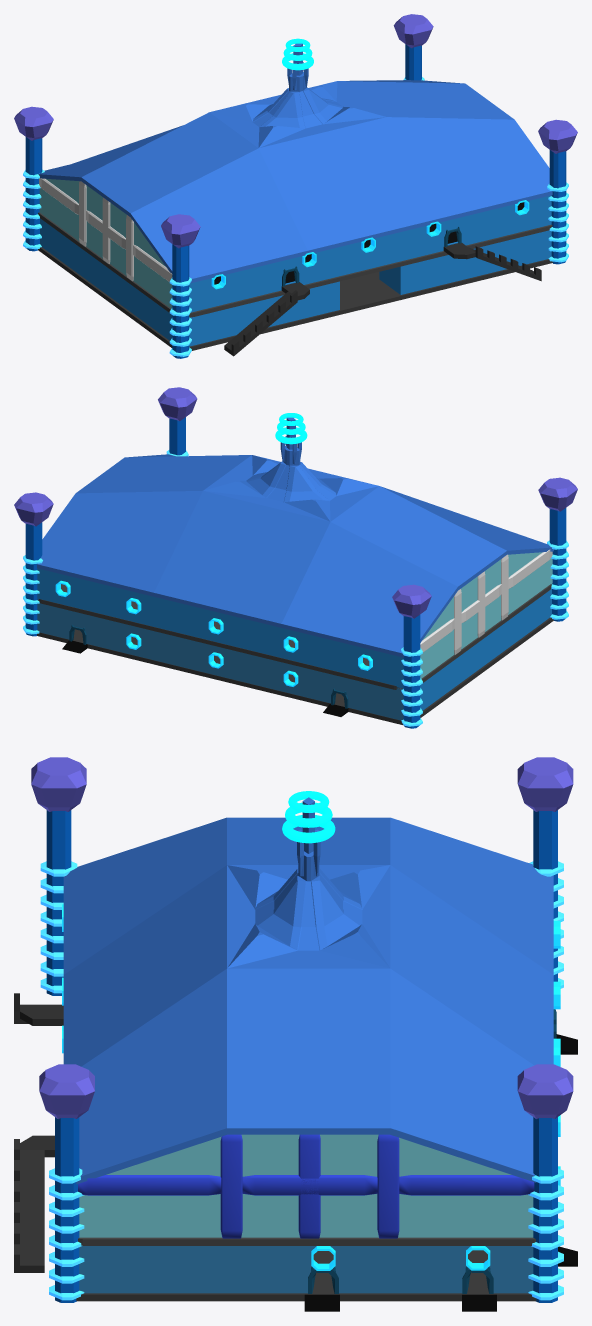
The model's file is canteen.fbx.
3 renders of one model, top to bottom at view 1: azimuth 30°, elevation 25°; view 2: azimuth 150°, elevation 25°; view 3: azimuth 270°, elevation 25°, orthographic. The views are drawn at different scales.
Parts seen in each view (by area): view 1: Cube.006, Cube.014, Cube.007, Cube.017, Cube, Cube.008, Cube.021, Cube.001, Cube.005, Cube.020, Cube.041, Cube.003; view 2: Cube.006, Cube.014, Cube.010, Cube.007, Cube.017, Cube.008, Cube.021, Cube, Cube.005, Cube.020, Cube.041, Cube.022; view 3: Cube.006, Cube.017, Cube.010, Cube.028, Cube.007, Cube.008, Cube.020, Cube.001, Cube, Cube.005, Cube.022, Cube.041 (+2 smaller).
Boxes of the visible parts, x1=… form: Cube.006: x1=38, y1=43, x2=552, y2=283; Cube.014: x1=40, y1=195, x2=551, y2=346; Cube.007: x1=25, y1=44, x2=566, y2=358; Cube.017: x1=39, y1=178, x2=172, y2=308; Cube: x1=38, y1=247, x2=552, y2=350; Cube.008: x1=14, y1=14, x2=577, y2=248; Cube.021: x1=39, y1=178, x2=172, y2=281; Cube.001: x1=224, y1=243, x2=541, y2=356; Cube.005: x1=38, y1=212, x2=552, y2=317; Cube.020: x1=23, y1=77, x2=568, y2=356; Cube.041: x1=211, y1=200, x2=529, y2=289; Cube.003: x1=214, y1=202, x2=524, y2=284; Cube.006: x1=37, y1=417, x2=553, y2=657; Cube.014: x1=37, y1=568, x2=551, y2=710; Cube.010: x1=37, y1=600, x2=403, y2=720; Cube.007: x1=25, y1=417, x2=566, y2=728; Cube.017: x1=420, y1=552, x2=552, y2=678; Cube.008: x1=14, y1=387, x2=577, y2=618; Cube.021: x1=420, y1=549, x2=552, y2=654; Cube: x1=37, y1=617, x2=553, y2=725; Cube.005: x1=38, y1=584, x2=551, y2=689; Cube.020: x1=23, y1=450, x2=568, y2=726; Cube.041: x1=55, y1=580, x2=372, y2=686; Cube.022: x1=62, y1=640, x2=348, y2=716; Cube.006: x1=63, y1=797, x2=553, y2=1184; Cube.017: x1=79, y1=1134, x2=533, y2=1237; Cube.010: x1=79, y1=1246, x2=533, y2=1293; Cube.028: x1=78, y1=1134, x2=534, y2=1238; Cube.007: x1=46, y1=810, x2=557, y2=1302; Cube.008: x1=31, y1=757, x2=573, y2=1118; Cube.020: x1=40, y1=861, x2=563, y2=1300; Cube.001: x1=14, y1=993, x2=63, y2=1272; Cube: x1=76, y1=1250, x2=536, y2=1301; Cube.005: x1=78, y1=1237, x2=535, y2=1245; Cube.022: x1=304, y1=1034, x2=577, y2=1311; Cube.041: x1=62, y1=904, x2=560, y2=1270.
Size of what is drawn, in the model's own units: 6434 by 3147 by 4604.
